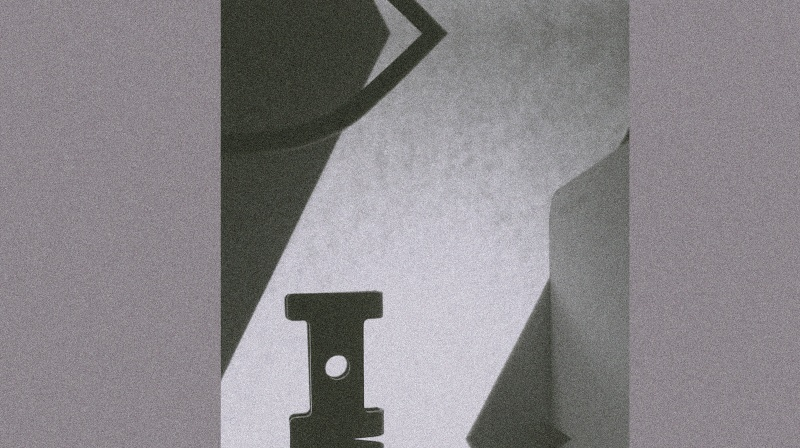O002: (284, 289, 385, 443)
S001: (303, 442, 360, 447)
